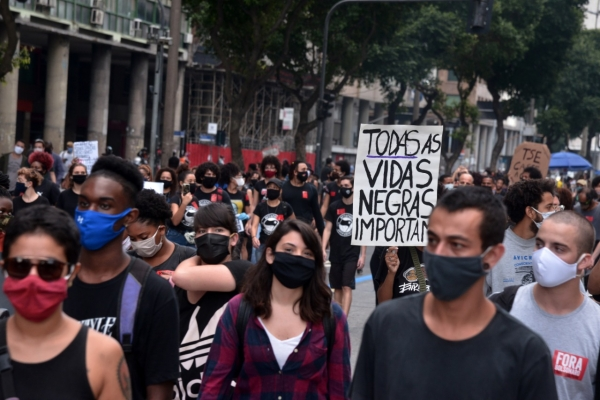with_mask: (3, 236, 74, 317), (423, 221, 494, 302), (73, 177, 132, 238), (532, 229, 584, 288), (266, 238, 320, 286), (193, 220, 236, 260)
